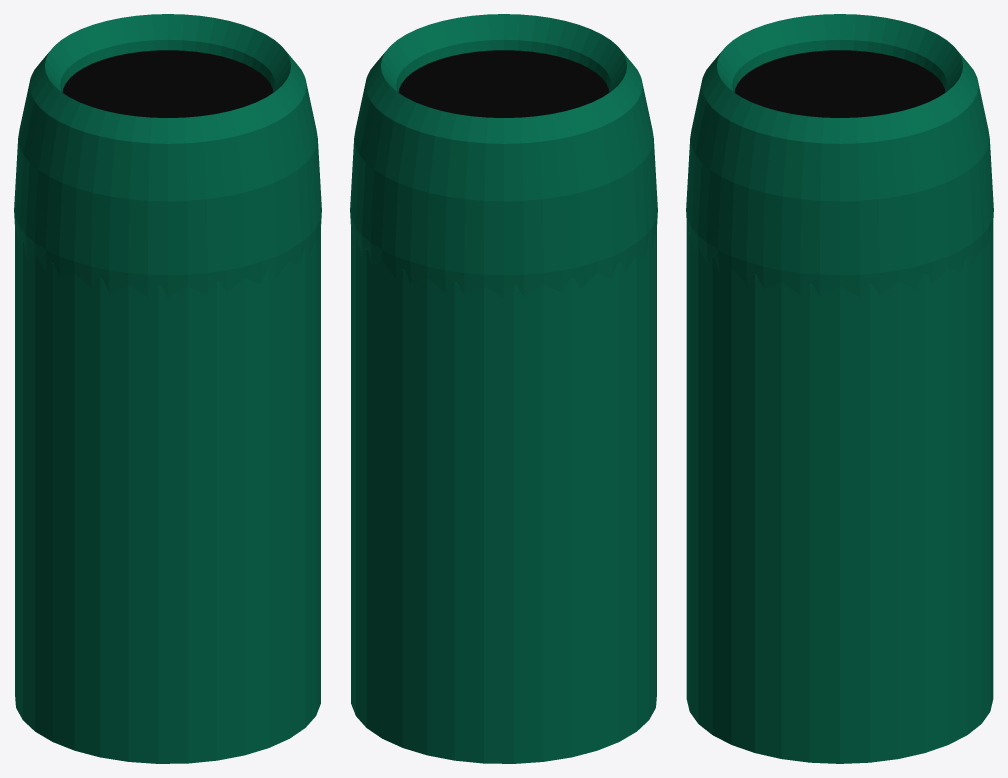
File: blaster.glb
The picture shows the model from 3 angles, left to right: view 1: azimuth 30°, elevation 25°; view 2: azimuth 150°, elevation 25°; view 3: azimuth 270°, elevation 25°; orthographic projection.
Parts seen in each view (by area): view 1: Cylinder; view 2: Cylinder; view 3: Cylinder.
Boxes of the visible parts, x1,y1,x2,y2 form: Cylinder: (14,14,321,763); Cylinder: (350,14,657,763); Cylinder: (686,14,993,763).
Bounding box in the file's own units: 12.55 × 28.47 × 12.55.
